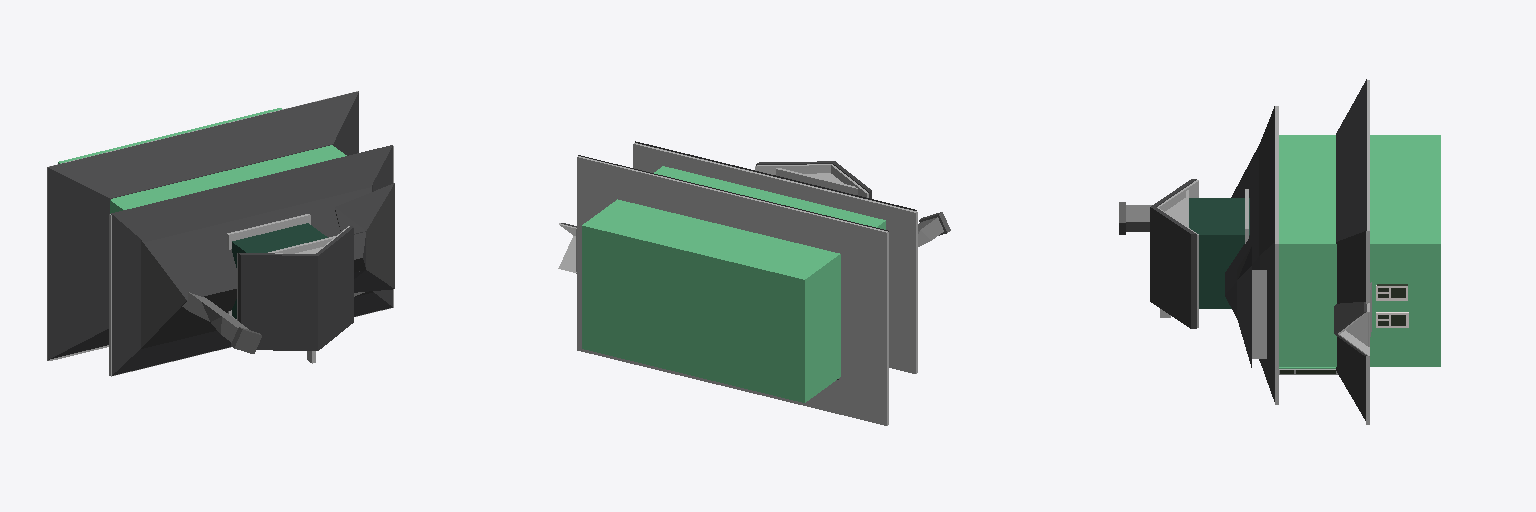
3 views of the same model, side by side, from view 1: azimuth 30°, elevation 25°; view 2: azimuth 150°, elevation 25°; view 3: azimuth 270°, elevation 25° (orthographic).
Parts seen in each view (by area): view 1: pCube76.002_lambert30, pCube76.002_lambert28, pCube76.002_blinn1, pCube76.002_lambert29, pCube76.002_lambert10, pCube76.002_lambert35; view 2: pCube76.002_lambert28, pCube76.002_blinn1, pCube76.002_lambert30; view 3: pCube76.002_lambert28, pCube76.002_lambert30, pCube76.002_blinn1, pCube76.002_lambert29, pCube76.002_blinn5, pCube76.002_lambert10.
Boxes of the visible parts, <box> form: pCube76.002_lambert30: <box>48,91,394,375</box>; pCube76.002_lambert28: <box>58,108,346,213</box>; pCube76.002_blinn1: <box>47,91,393,376</box>; pCube76.002_lambert29: <box>232,223,327,318</box>; pCube76.002_lambert10: <box>182,292,248,342</box>; pCube76.002_lambert35: <box>231,327,261,353</box>; pCube76.002_lambert28: <box>582,166,885,402</box>; pCube76.002_blinn1: <box>558,143,917,425</box>; pCube76.002_lambert30: <box>561,141,916,379</box>; pCube76.002_lambert28: <box>1279,135,1440,366</box>; pCube76.002_lambert30: <box>1150,79,1366,420</box>; pCube76.002_blinn1: <box>1157,80,1371,424</box>; pCube76.002_lambert29: <box>1189,198,1249,308</box>; pCube76.002_blinn5: <box>1280,284,1407,373</box>; pCube76.002_lambert10: <box>1126,205,1151,231</box>.
Bounding box in the file's own units: 3 × 1.69 × 2.54.
11 materials, 9 textured.